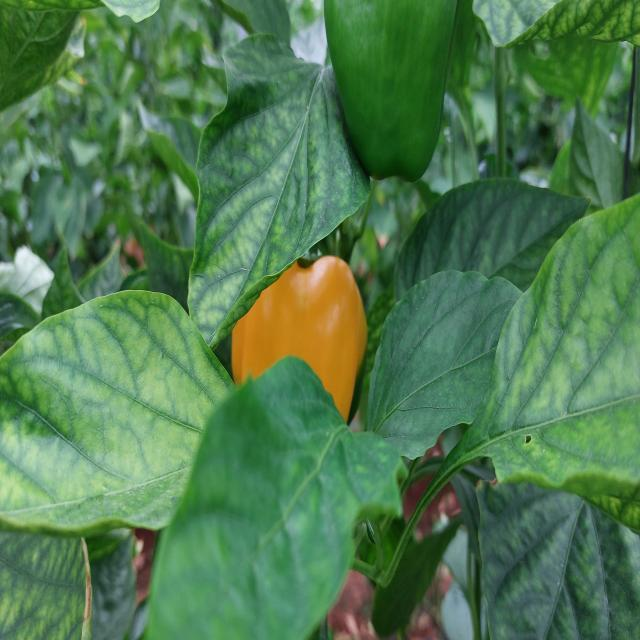Yellow-Ready-to-Harvest: (231, 240, 364, 437)
